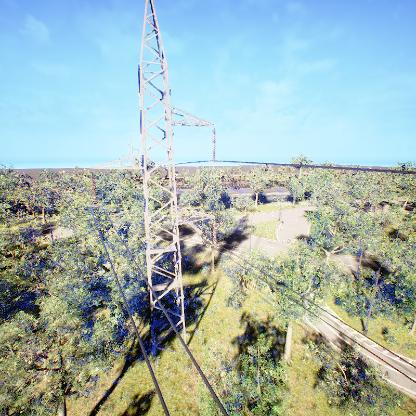tower: (87, 1, 221, 364)
